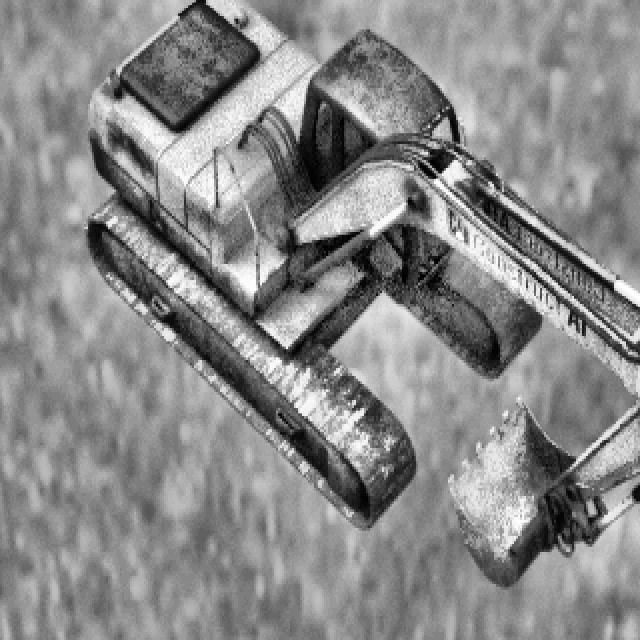excavator: (84, 0, 640, 584)
